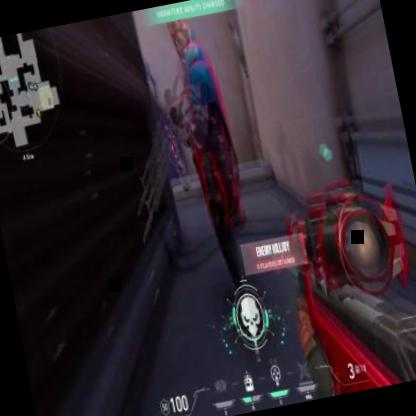enemy: (143, 0, 269, 315)
enemy_head: (166, 20, 196, 63)
